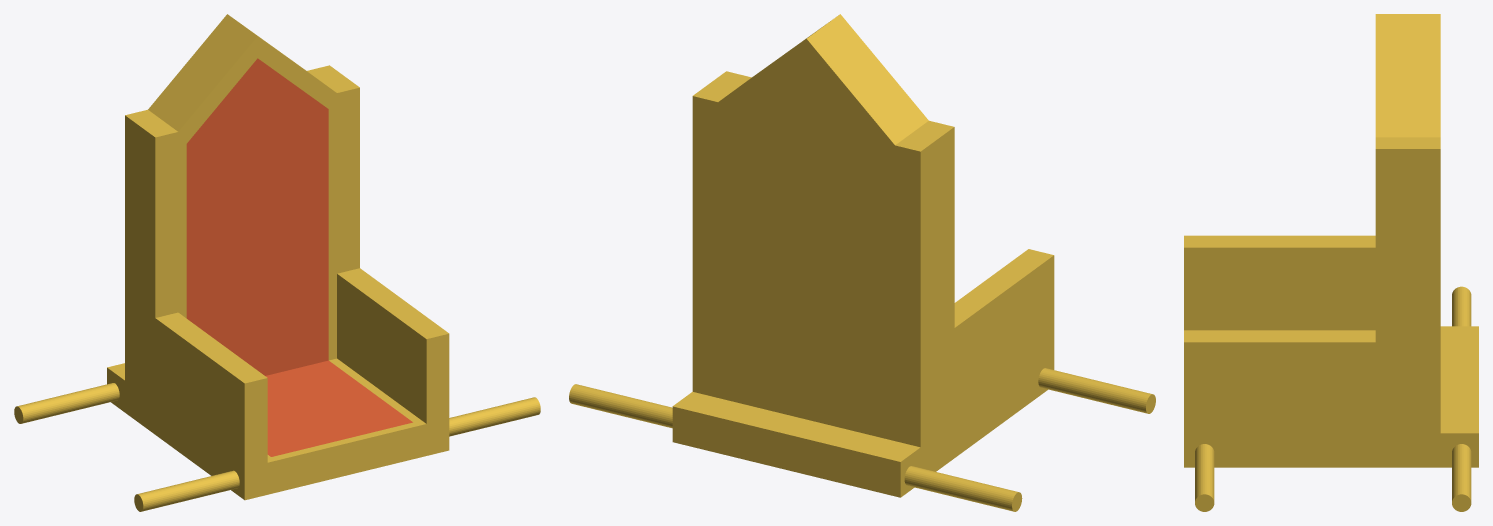
Rendered from Throne.gltf.
3 views of the same model, side by side, from view 1: azimuth 30°, elevation 25°; view 2: azimuth 150°, elevation 25°; view 3: azimuth 270°, elevation 25° (orthographic). The views are drawn at different scales.
Visible parts, largest first — view 1: Cube; view 2: Cube; view 3: Cube.
Boxes of the visible parts, x1,y1,x2,y2 form: Cube: (14, 14, 540, 511); Cube: (569, 14, 1155, 511); Cube: (1184, 14, 1478, 511).
Size of the model in its own units: 2.05 by 1.84 by 1.23.
